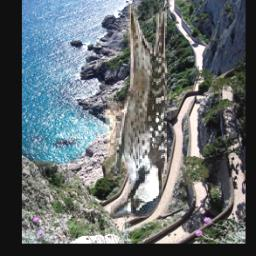Woodpecker: (104, 4, 168, 220)
